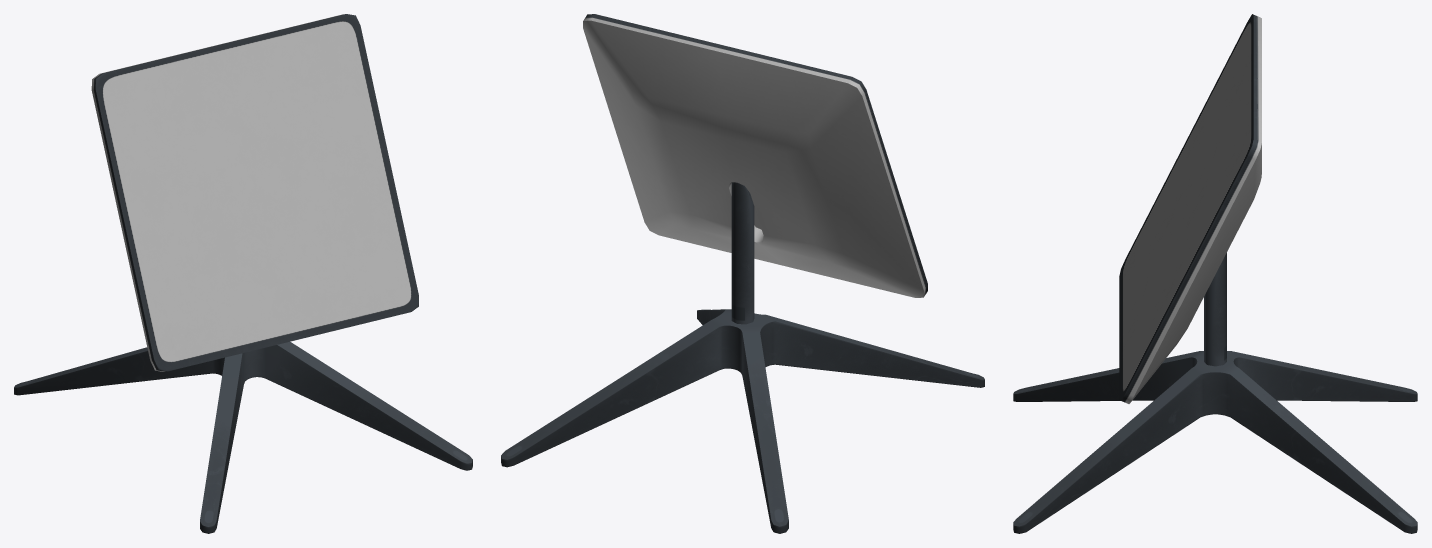
The model's file is starlink-standard.glb.
3 views of the same model, side by side, from view 1: azimuth 30°, elevation 25°; view 2: azimuth 150°, elevation 25°; view 3: azimuth 270°, elevation 25° (orthographic). The views are drawn at different scales.
Visible parts, largest first — view 1: Object_2; view 2: Object_2; view 3: Object_2.
Part boxes in pixels (x1,y1,x2,y2): Object_2: (14,14,472,533); Object_2: (501,14,984,533); Object_2: (1013,14,1417,533).
Size of the model in its own units: 203 by 268 by 253.
Materials: 1 (1 with a texture image).
